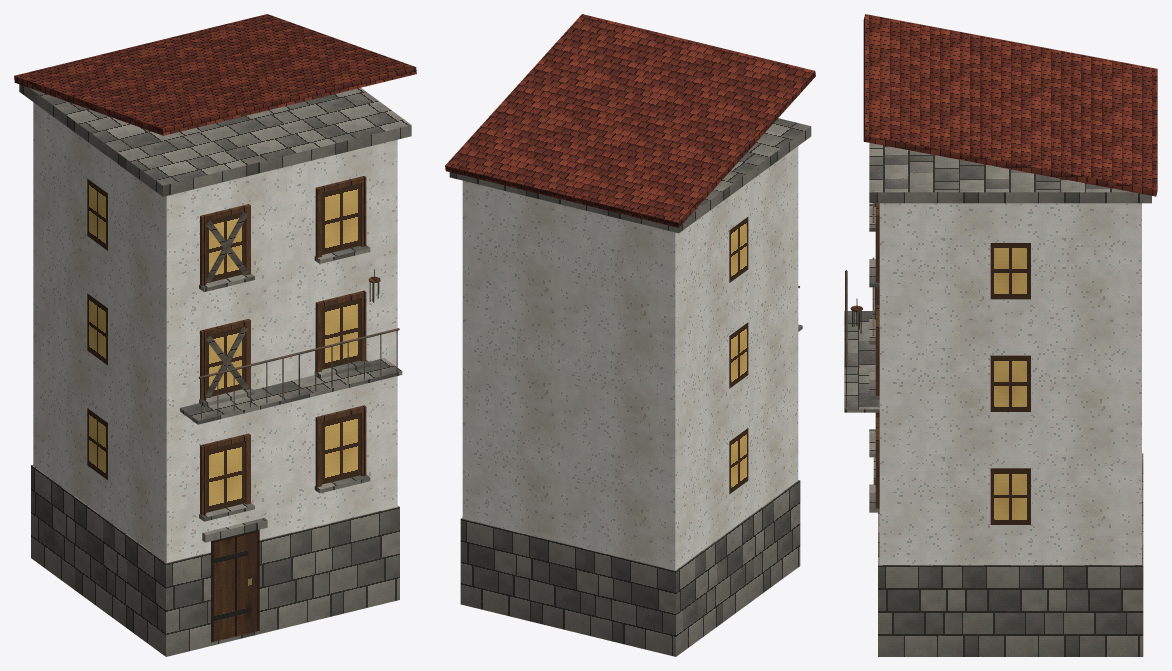
Rendered from casa_hoz_ancha.obj.
The picture shows the model from 3 angles, left to right: view 1: azimuth 30°, elevation 25°; view 2: azimuth 150°, elevation 25°; view 3: azimuth 270°, elevation 25°; orthographic projection. The views are drawn at different scales.
Parts seen in each view (by area): view 1: casa_hoz_ancha; view 2: casa_hoz_ancha; view 3: casa_hoz_ancha.
Part boxes in pixels (x1,y1,x2,y2): casa_hoz_ancha: (14,14,416,656); casa_hoz_ancha: (445,14,815,656); casa_hoz_ancha: (844,14,1157,656).
Bounding box in the file's own units: 5.7 × 11.51 × 6.21.
9 materials, 9 textured.
